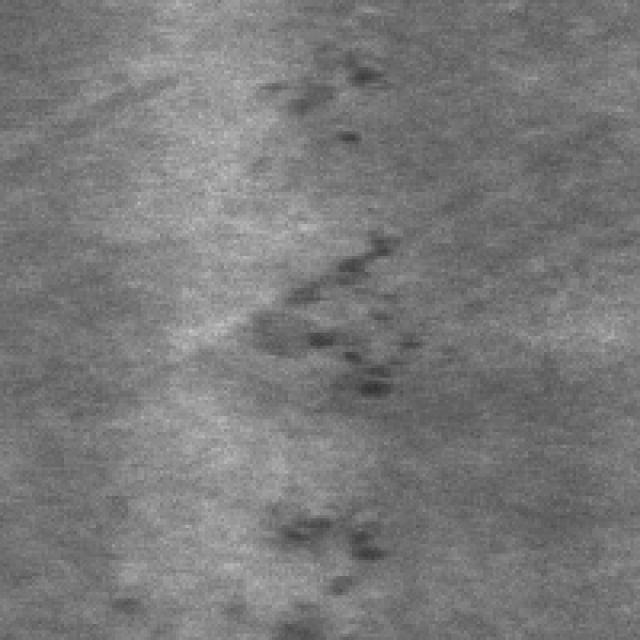rolled-in_scale: (256, 208, 422, 406), (262, 480, 390, 637), (243, 16, 384, 154)
